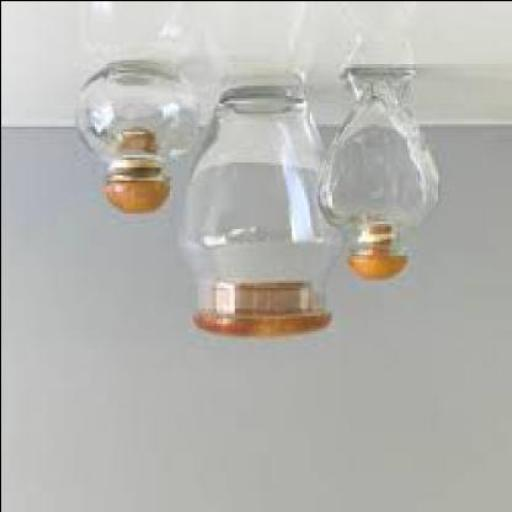glass: (180, 84, 342, 321), (318, 66, 440, 258), (77, 62, 204, 182)
